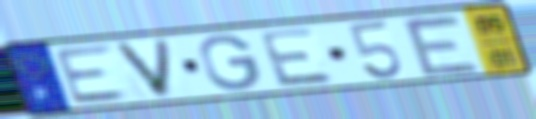5: (345, 18, 404, 81)
E: (397, 13, 485, 78), (51, 42, 134, 106), (255, 26, 339, 89)
G: (196, 33, 264, 93)
V: (108, 36, 176, 100)
